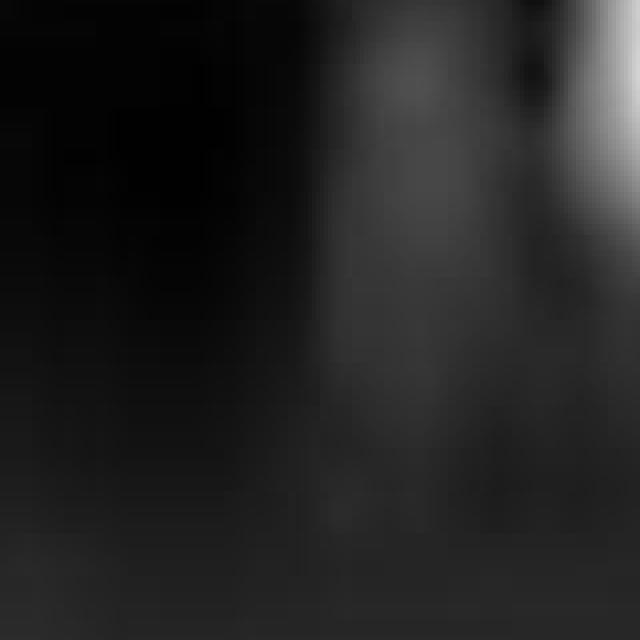person: (297, 1, 517, 508), (541, 1, 640, 332)
